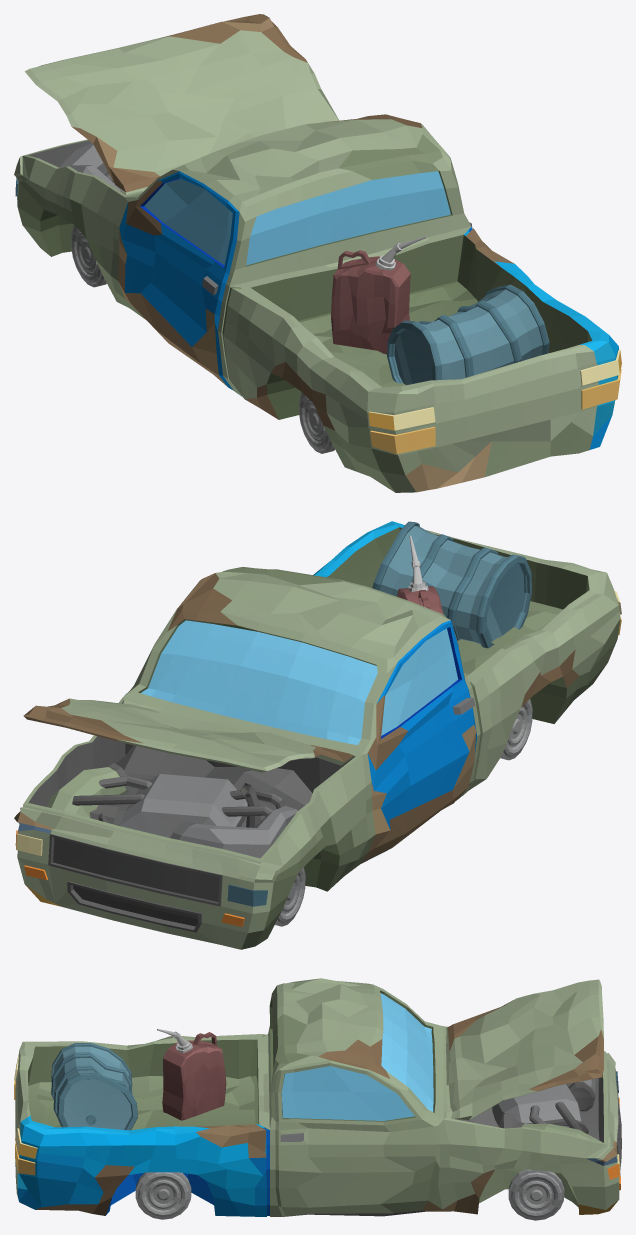
File: car_wreck_1.glb
3 views of the same model, one above another, from view 1: azimuth 30°, elevation 25°; view 2: azimuth 150°, elevation 25°; view 3: azimuth 270°, elevation 25° (orthographic). The views are drawn at different scales.
Visible parts, largest first — view 1: car, barrel_damaged, jerry_can_nozzle, wheels; view 2: car, barrel_damaged, wheels, jerry_can_nozzle; view 3: car, barrel_damaged, jerry_can_nozzle, wheels.
Boxes of the visible parts, box(x1,y1,x2,y2) form: car: box(14, 14, 621, 492); barrel_damaged: box(387, 284, 549, 385); jerry_can_nozzle: box(331, 236, 427, 354); wheels: box(71, 225, 334, 453); car: box(14, 521, 621, 949); barrel_damaged: box(372, 521, 531, 648); wheels: box(275, 699, 532, 926); jerry_can_nozzle: box(397, 535, 443, 614); car: box(14, 978, 621, 1216); barrel_damaged: box(51, 1043, 137, 1130); jerry_can_nozzle: box(157, 1029, 226, 1120); wheels: box(135, 1169, 564, 1220).
Bounding box in the file's own units: 2.08 × 1.6 × 5.08.
1 material, 1 textured.
